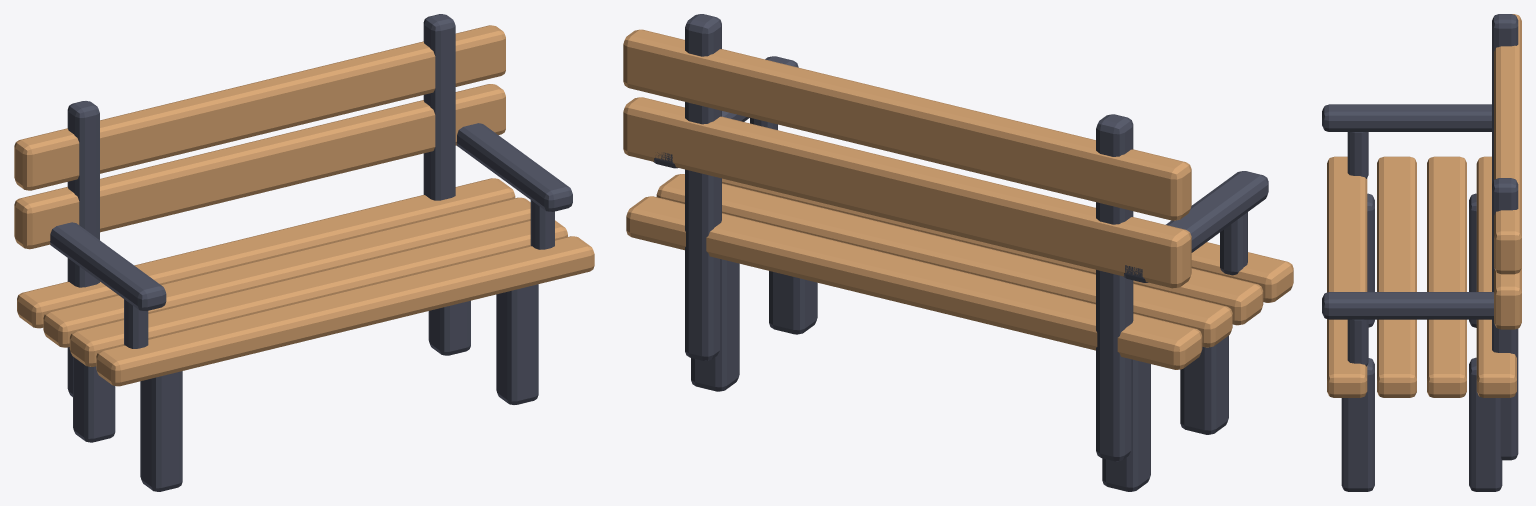
File: bench.glb
3 views of the same model, side by side, from view 1: azimuth 30°, elevation 25°; view 2: azimuth 150°, elevation 25°; view 3: azimuth 270°, elevation 25° (orthographic). The views are drawn at different scales.
Visible parts, largest first — view 1: bench__Back slat.001, bench__Back slat, bench__Seat slat, bench__Seat slat.002, bench__Seat slat.001, bench__Seat slat.003, bench__Back support.001, bench__Leg.002, bench__Leg, bench__Arm rest, bench__Arm rest.001, bench__Back support (+4 smaller); view 2: bench__Back slat.001, bench__Back slat, bench__Seat slat.003, bench__Seat slat.002, bench__Back support, bench__Back support.001, bench__Seat slat.001, bench__Leg, bench__Arm rest, bench__Leg.001, bench__Leg.003, bench__Leg.002 (+2 smaller); view 3: bench__Seat slat.001, bench__Seat slat.002, bench__Seat slat, bench__Back slat.001, bench__Arm rest.001, bench__Arm rest, bench__Seat slat.003, bench__Leg.002, bench__Leg.003, bench__Back support.001, bench__Back slat, bench__Back support (+4 smaller).
Boxes of the visible parts, x1=… form: bench__Back slat.001: x1=14, y1=25, x2=505, y2=190; bench__Back slat: x1=14, y1=84, x2=505, y2=249; bench__Seat slat: x1=96, y1=236, x2=594, y2=386; bench__Seat slat.002: x1=43, y1=197, x2=530, y2=347; bench__Seat slat.001: x1=69, y1=220, x2=567, y2=366; bench__Seat slat.003: x1=17, y1=178, x2=515, y2=328; bench__Back support.001: x1=423, y1=14, x2=455, y2=200; bench__Leg.002: x1=496, y1=284, x2=538, y2=404; bench__Leg: x1=140, y1=371, x2=182, y2=491; bench__Arm rest: x1=50, y1=222, x2=166, y2=311; bench__Arm rest.001: x1=456, y1=123, x2=572, y2=211; bench__Back support: x1=67, y1=101, x2=99, y2=396; bench__Back slat.001: x1=623, y1=29, x2=1191, y2=220; bench__Back slat: x1=623, y1=97, x2=1191, y2=288; bench__Seat slat.003: x1=626, y1=196, x2=1202, y2=369; bench__Seat slat.002: x1=656, y1=174, x2=1232, y2=347; bench__Back support: x1=1096, y1=114, x2=1133, y2=461; bench__Back support.001: x1=685, y1=14, x2=721, y2=360; bench__Seat slat.001: x1=722, y1=178, x2=1263, y2=325; bench__Leg: x1=1180, y1=335, x2=1228, y2=434; bench__Arm rest: x1=1123, y1=171, x2=1268, y2=282; bench__Leg.001: x1=1102, y1=359, x2=1150, y2=491; bench__Leg.003: x1=691, y1=259, x2=739, y2=391; bench__Leg.002: x1=769, y1=271, x2=817, y2=334; bench__Seat slat.001: x1=1377, y1=156, x2=1416, y2=397; bench__Seat slat.002: x1=1427, y1=156, x2=1466, y2=397; bench__Seat slat: x1=1327, y1=156, x2=1367, y2=397; bench__Back slat.001: x1=1494, y1=14, x2=1521, y2=274; bench__Arm rest.001: x1=1322, y1=292, x2=1493, y2=319; bench__Arm rest: x1=1322, y1=104, x2=1491, y2=131; bench__Seat slat.003: x1=1476, y1=156, x2=1516, y2=397; bench__Leg.002: x1=1341, y1=358, x2=1374, y2=491; bench__Leg.003: x1=1469, y1=357, x2=1502, y2=491; bench__Back support.001: x1=1492, y1=178, x2=1518, y2=460; bench__Back slat: x1=1494, y1=268, x2=1521, y2=329; bench__Back support: x1=1492, y1=14, x2=1518, y2=183.
Size of the model in its own units: 0.38 by 0.244 by 0.144.
